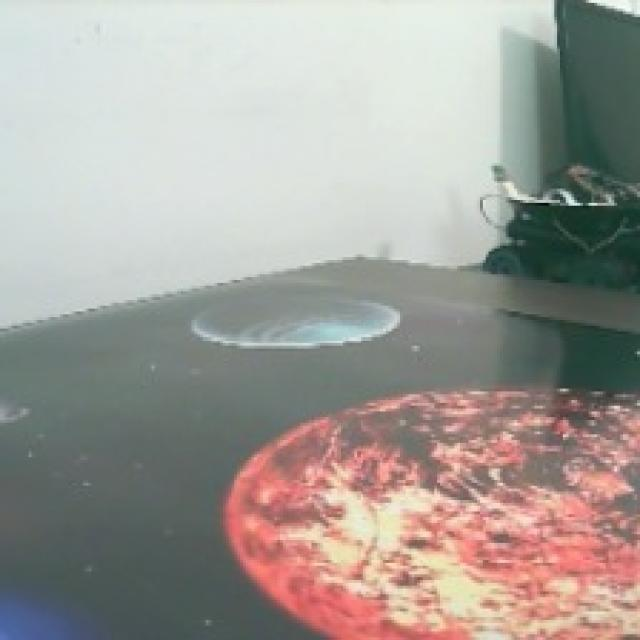Earth: (191, 286, 403, 349)
Sun: (225, 388, 640, 640)
